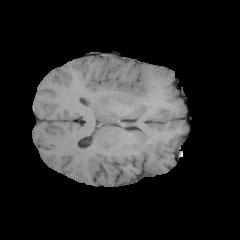glioma: (83, 65, 172, 132)
